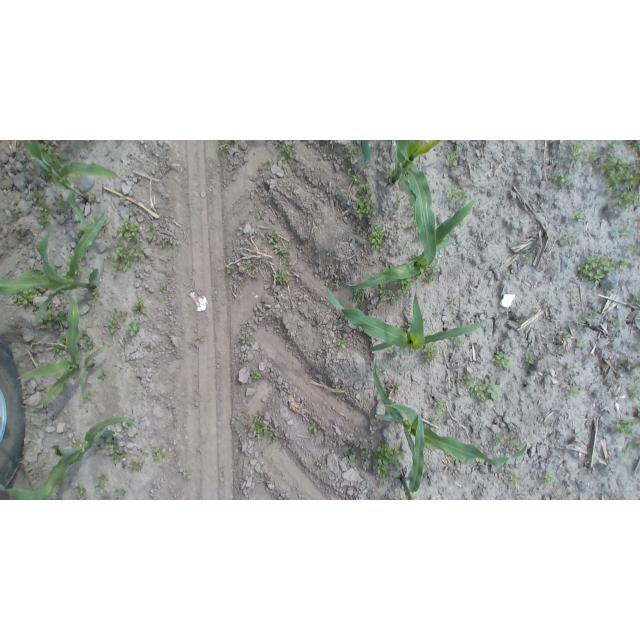Maize: (371, 356, 528, 467), (343, 189, 478, 292), (324, 283, 488, 354), (0, 215, 106, 324), (17, 290, 109, 412), (0, 418, 136, 499), (24, 140, 125, 230), (388, 141, 443, 268), (394, 409, 425, 500), (361, 140, 371, 166)
Weeds: (601, 154, 640, 208), (577, 248, 628, 283), (374, 441, 401, 487), (459, 374, 500, 402), (112, 243, 144, 275), (31, 189, 52, 229), (250, 415, 278, 444), (616, 408, 640, 437), (352, 195, 376, 220), (617, 438, 640, 464), (118, 219, 141, 243), (123, 322, 142, 349), (107, 438, 126, 464), (42, 310, 68, 329), (502, 464, 522, 487), (424, 259, 441, 284), (448, 184, 469, 204), (574, 310, 598, 327), (368, 226, 384, 251), (553, 171, 574, 190), (493, 350, 512, 370), (14, 291, 39, 306), (108, 311, 124, 334), (279, 142, 297, 162), (44, 143, 61, 164), (504, 427, 520, 448), (422, 343, 438, 364), (51, 332, 67, 352), (395, 278, 411, 296), (569, 141, 584, 160), (380, 287, 399, 302), (95, 472, 110, 489), (152, 445, 167, 462), (61, 253, 72, 276), (345, 448, 357, 467), (445, 152, 460, 167), (128, 459, 144, 473), (263, 232, 280, 245), (628, 383, 640, 401), (133, 298, 146, 314), (76, 484, 89, 500), (349, 168, 362, 184), (276, 266, 288, 283), (65, 437, 83, 448), (542, 470, 556, 484), (585, 148, 597, 164), (82, 335, 94, 351), (610, 230, 631, 239), (240, 260, 253, 274), (606, 141, 618, 156), (356, 183, 372, 194), (524, 352, 537, 365), (568, 385, 581, 398), (161, 238, 176, 249), (572, 210, 585, 222), (519, 251, 531, 264), (627, 141, 640, 153), (218, 141, 232, 152), (436, 398, 447, 412), (145, 227, 155, 242), (390, 383, 402, 395), (308, 423, 321, 434), (352, 289, 365, 300), (89, 213, 103, 223), (626, 244, 640, 254), (408, 199, 416, 216), (316, 459, 328, 470), (361, 449, 372, 461), (274, 245, 288, 254), (251, 369, 262, 380), (78, 226, 89, 237), (350, 149, 359, 162), (631, 291, 639, 305), (515, 317, 525, 328), (329, 278, 339, 289), (493, 435, 503, 446), (454, 338, 464, 349), (561, 233, 572, 243), (82, 393, 92, 404), (88, 191, 98, 202), (387, 349, 396, 361), (227, 262, 236, 274), (97, 370, 107, 380), (399, 241, 409, 251), (181, 471, 191, 481), (91, 289, 101, 299), (543, 297, 554, 306), (56, 196, 64, 208), (85, 140, 97, 148), (474, 458, 487, 465), (379, 367, 388, 377), (406, 221, 416, 230), (567, 363, 576, 373), (41, 171, 51, 180), (404, 321, 412, 332), (550, 492, 561, 500), (241, 335, 252, 343), (233, 430, 241, 441), (431, 417, 439, 428), (195, 337, 206, 345), (123, 422, 133, 430), (257, 210, 265, 220), (114, 488, 126, 494), (504, 268, 512, 277), (327, 250, 336, 258), (574, 338, 582, 347), (531, 487, 540, 495), (338, 340, 346, 349), (395, 192, 400, 205), (211, 294, 219, 302), (473, 162, 481, 170), (562, 332, 570, 340), (56, 479, 65, 486), (569, 492, 576, 501), (611, 317, 618, 326), (403, 310, 410, 318), (448, 298, 455, 306), (160, 285, 169, 291), (472, 441, 479, 448), (388, 170, 392, 182), (413, 250, 419, 258), (531, 307, 538, 313), (268, 158, 273, 166), (460, 461, 467, 465), (423, 316, 426, 325), (55, 375, 61, 379)
